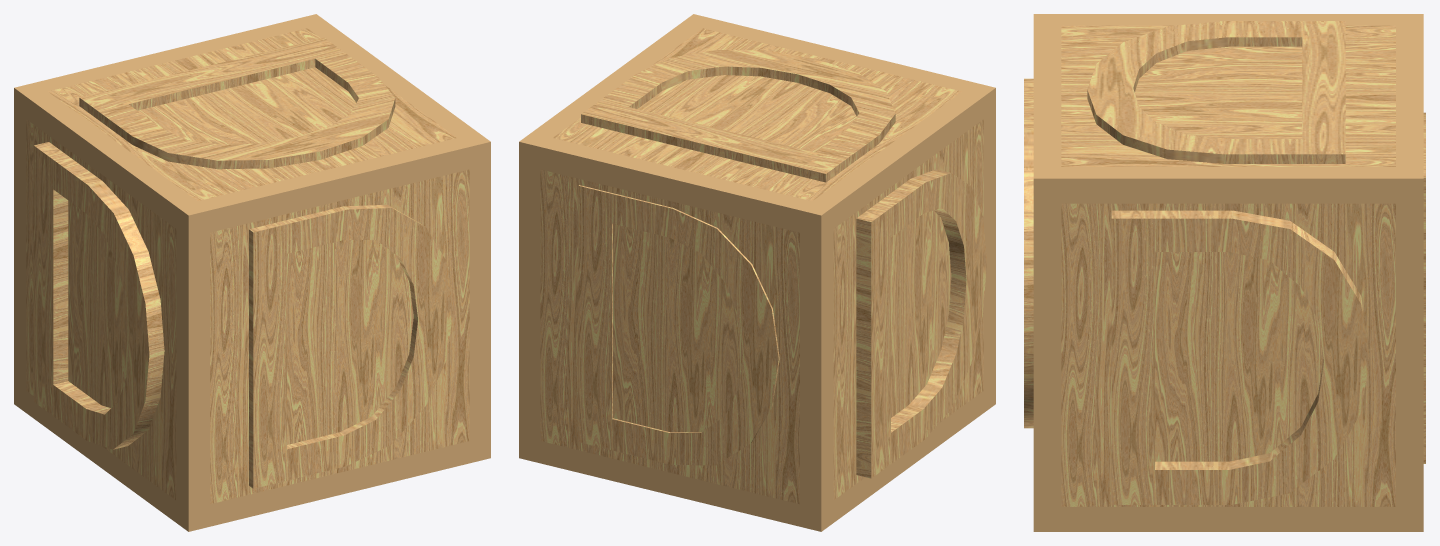
The model's file is Block D.fbx.
3 views of the same model, side by side, from view 1: azimuth 30°, elevation 25°; view 2: azimuth 150°, elevation 25°; view 3: azimuth 270°, elevation 25° (orthographic). The views are drawn at different scales.
Visible parts, largest first — view 1: Box, FRONT, LEFT, TOP; view 2: Box, BACK, LEFT, TOP; view 3: Box, RIGHT, TOP, FRONT, BACK.
Part boxes in pixels (left/top/right/bottom): Box: left=14, top=14, right=490, bottom=531; FRONT: left=249, top=204, right=453, bottom=488; LEFT: left=33, top=142, right=164, bottom=449; TOP: left=79, top=37, right=395, bottom=169; Box: left=519, top=14, right=995, bottom=531; BACK: left=578, top=185, right=779, bottom=465; LEFT: left=856, top=169, right=986, bottom=478; TOP: left=581, top=50, right=895, bottom=182; Box: left=1033, top=14, right=1423, bottom=531; RIGHT: left=1111, top=210, right=1369, bottom=504; TOP: left=1087, top=21, right=1345, bottom=163; FRONT: left=1024, top=78, right=1033, bottom=428; BACK: left=1423, top=112, right=1425, bottom=463.
Size of the model in its own units: 1.1 by 1.04 by 1.03.
Materials: 2 (2 with a texture image).
